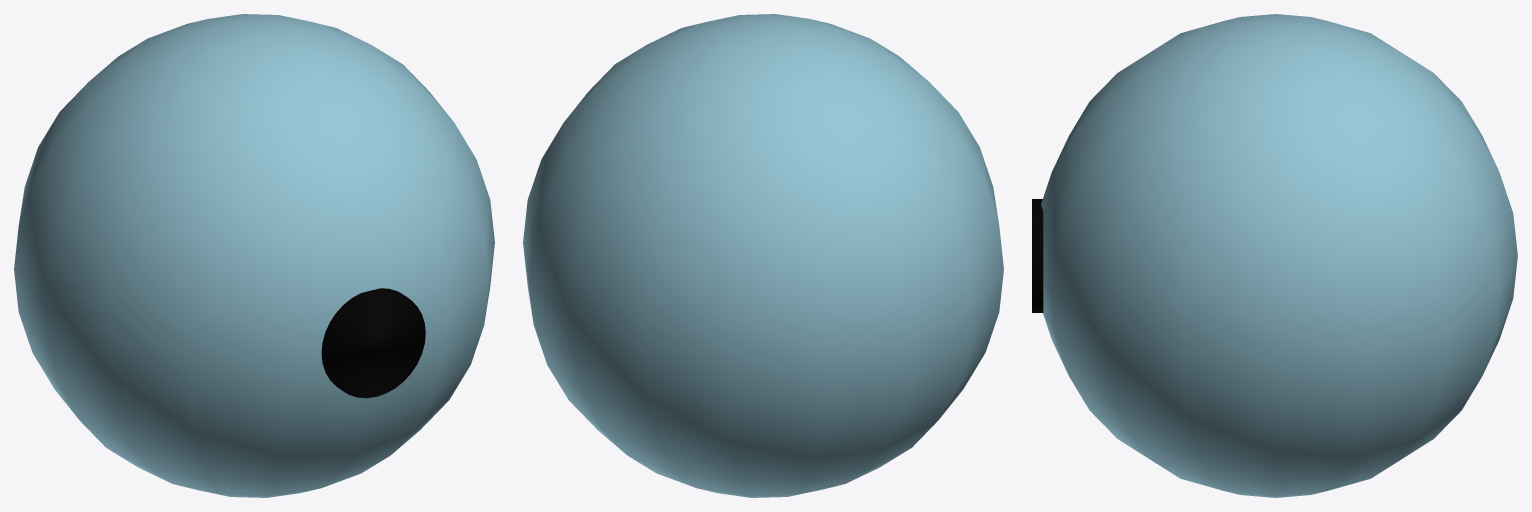
The model's file is TripleShot.fbx.
3 views of the same model, side by side, from view 1: azimuth 30°, elevation 25°; view 2: azimuth 150°, elevation 25°; view 3: azimuth 270°, elevation 25° (orthographic).
Parts seen in each view (by area): view 1: Sphere, Cylinder; view 2: Sphere; view 3: Sphere, Cylinder.
Part boxes in pixels (box(x1,y1,x2,y2)): Sphere: box(14, 14, 494, 497); Cylinder: box(321, 288, 425, 398); Sphere: box(523, 14, 1003, 497); Sphere: box(1041, 14, 1517, 497); Cylinder: box(1032, 199, 1043, 312).
Bounding box in the file's own units: 200 × 200 × 201.
